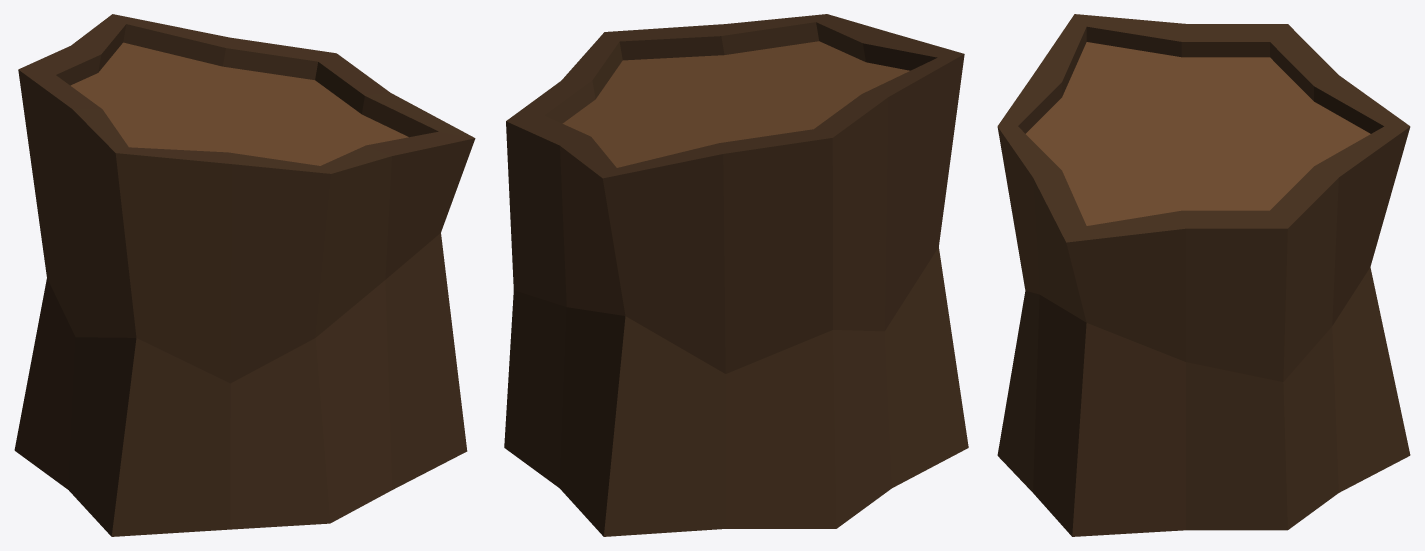
The model's file is Tree_Trunk_2_Dark_Brown.fbx.
3 views of the same model, side by side, from view 1: azimuth 30°, elevation 25°; view 2: azimuth 150°, elevation 25°; view 3: azimuth 270°, elevation 25° (orthographic). The views are drawn at different scales.
Parts seen in each view (by area): view 1: Tree_Trunk_2_Dark_Brown; view 2: Tree_Trunk_2_Dark_Brown; view 3: Tree_Trunk_2_Dark_Brown.
Part boxes in pixels (x1,y1,x2,y2): Tree_Trunk_2_Dark_Brown: [14, 14, 475, 536]; Tree_Trunk_2_Dark_Brown: [504, 14, 968, 536]; Tree_Trunk_2_Dark_Brown: [997, 14, 1410, 536].
Bounding box in the file's own units: 108 × 110 × 113.
